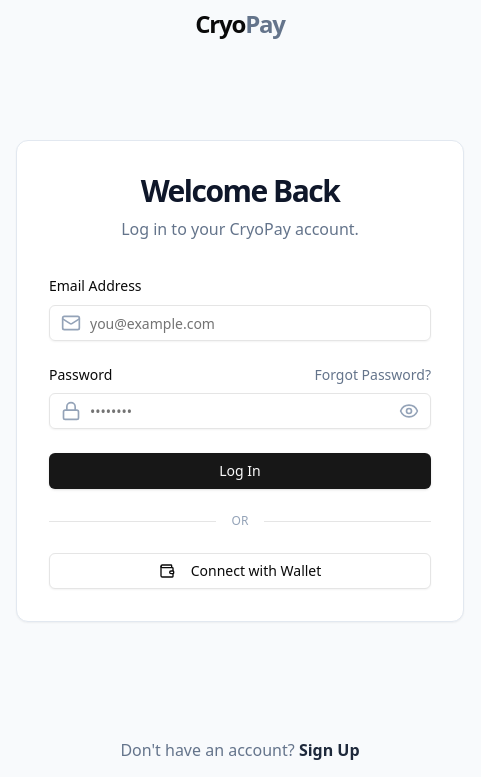
Test: LoginScreen › shows loading state during submission
Type "test@example.com" into the field labelled "Email Address" at (240, 323), box 49,305 -> 431,341
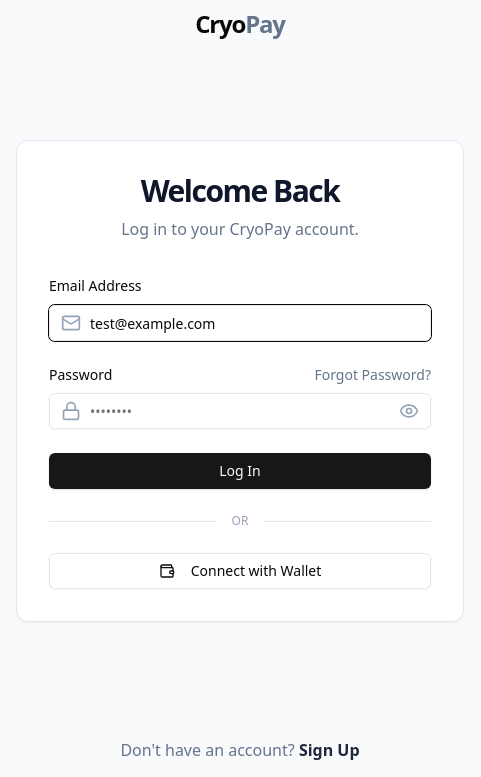
Type "password123" into the password field labelled "Password" at (240, 411), box 49,393 -> 431,429
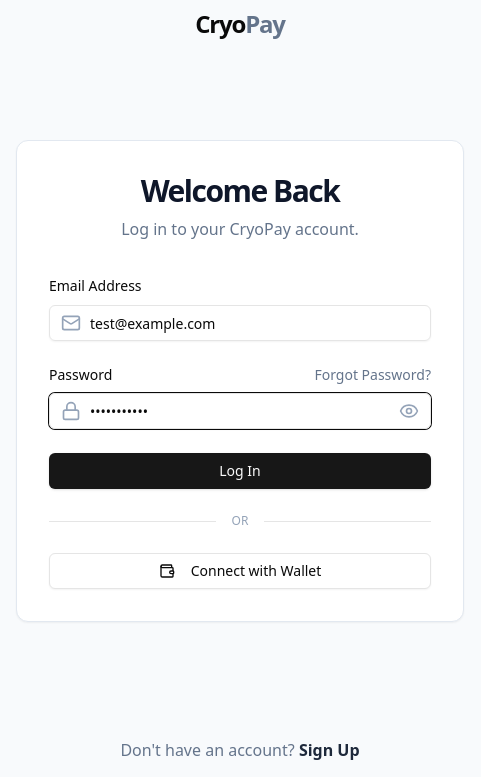
Click submit - this will start the loading state
Click the button "Log In" at (240, 471), box 49,453 -> 431,489
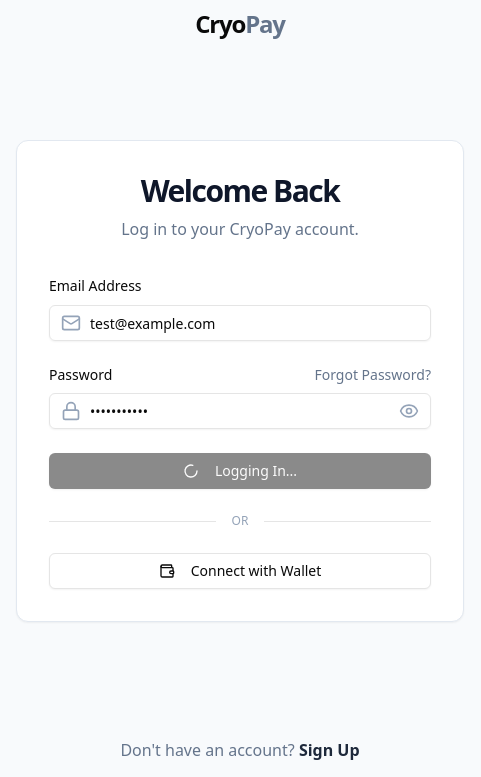
Check: the button "Logging In..." is shown, box 49,453 -> 431,489
